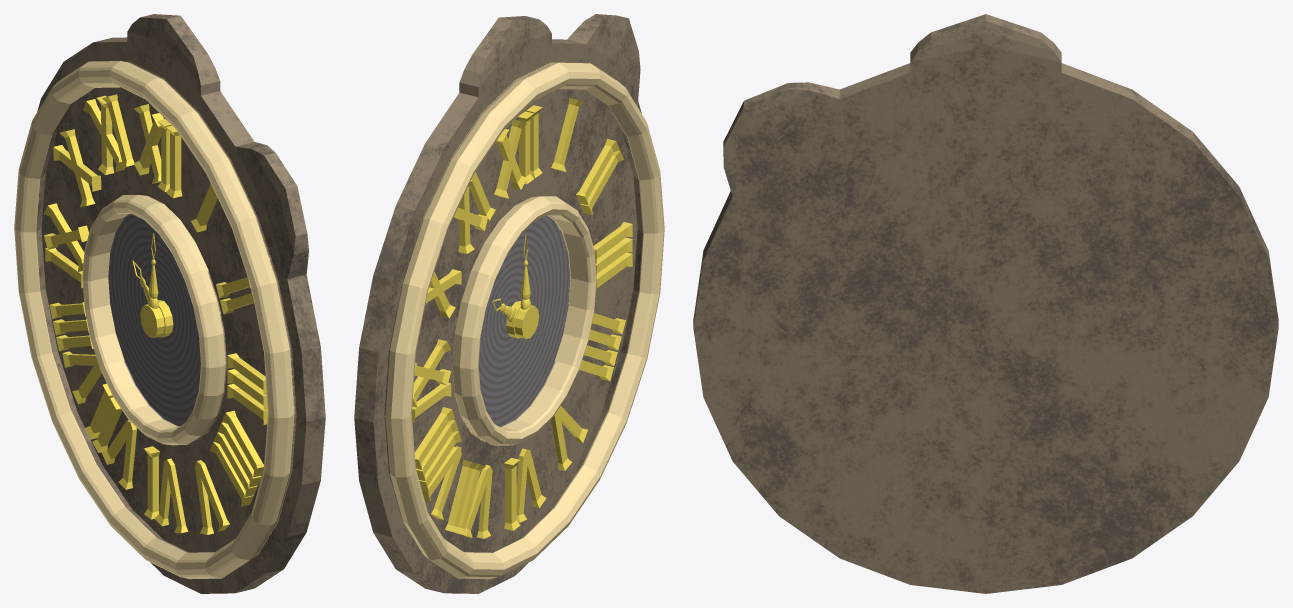
The model's file is RelogioAntigo.fbx.
3 renders of one model, left to right at view 1: azimuth 30°, elevation 25°; view 2: azimuth 150°, elevation 25°; view 3: azimuth 270°, elevation 25°, orthographic. The views are drawn at different scales.
Visible parts, largest first — view 1: RelogioAntigo; view 2: RelogioAntigo; view 3: RelogioAntigo.
Boxes of the visible parts, bbox=[...] form: RelogioAntigo: bbox=[14, 14, 325, 593]; RelogioAntigo: bbox=[354, 14, 664, 593]; RelogioAntigo: bbox=[693, 14, 1278, 593].
Size of the model in its own units: 20.05 by 259 by 240.
